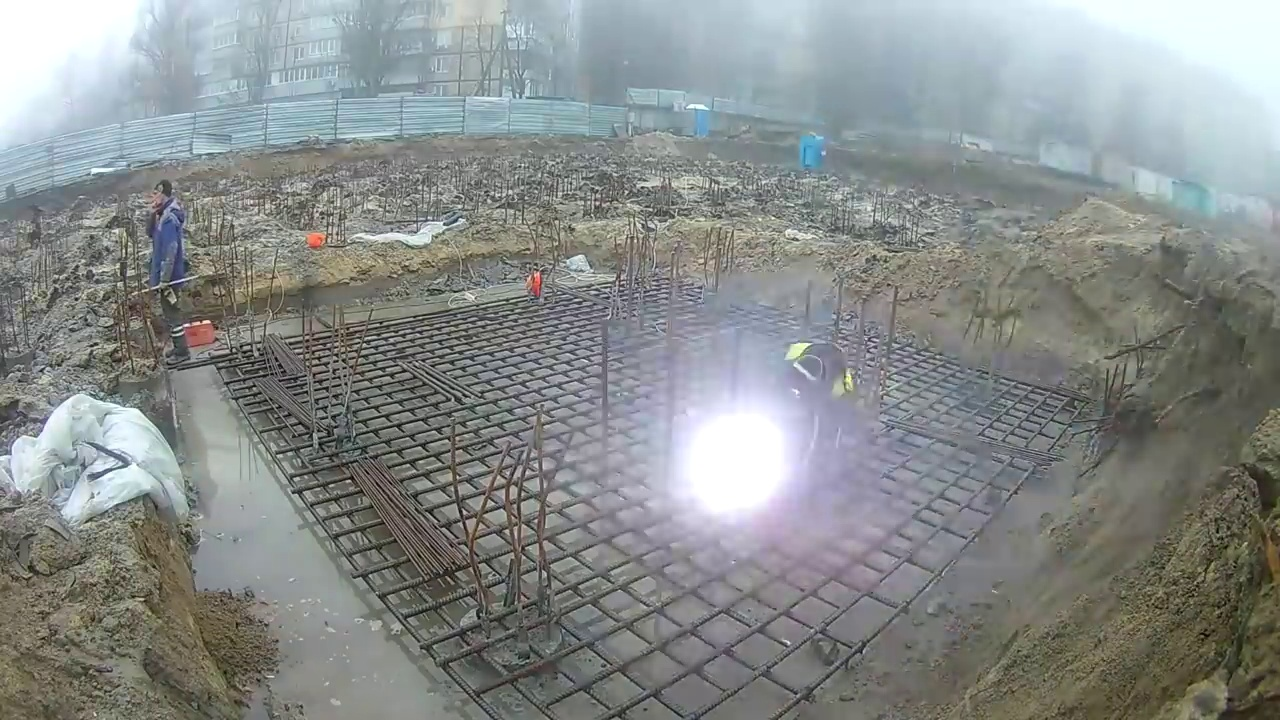helmet: (527, 271, 541, 300), (305, 231, 326, 249)
helmet-off: (789, 355, 827, 406), (150, 180, 178, 218)
person: (772, 339, 866, 474), (140, 182, 194, 364)
